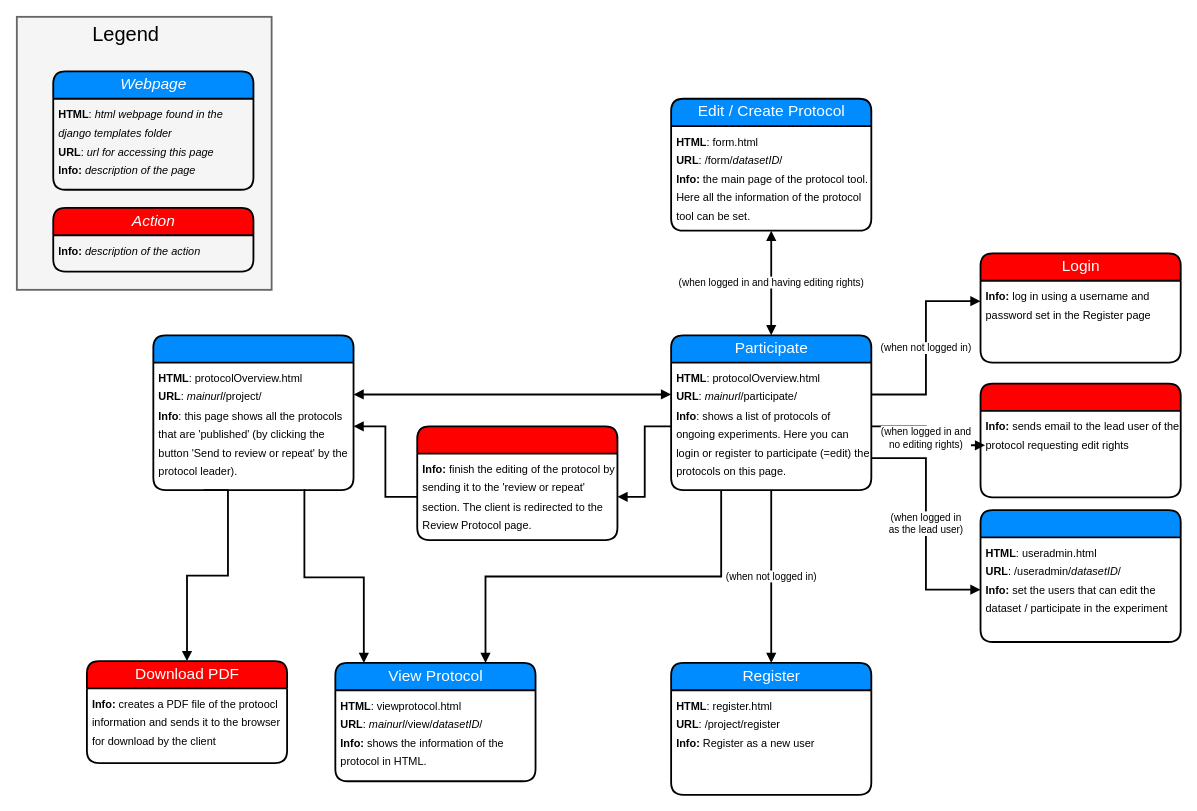
Some shapes in this 1197 by 811 pixel diagram are drawn without their labels. The shapes that lost their labels are listed below. From the top down, each one's box as (x1, y1, x2, y2) in pixels, then its label:
(152, 334, 354, 490): ReviewProtocol
(979, 382, 1181, 498): Request Edit Rights
(416, 425, 618, 541): Send to "review or repeat"
(979, 509, 1181, 642): Set user rights
